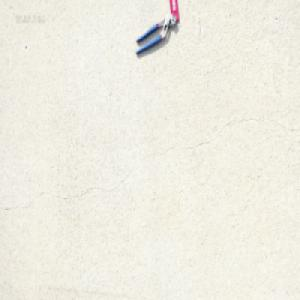Label: (169, 0, 180, 27)
Pliers: (134, 13, 176, 56)
